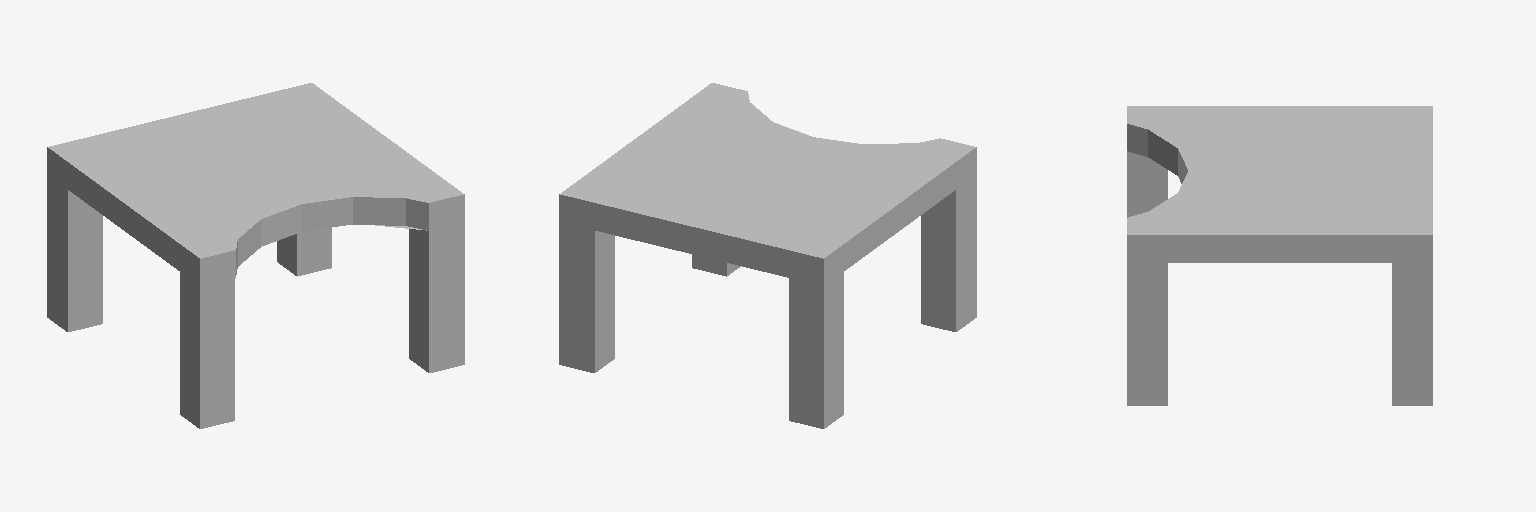
Rendered from DrawingDesk.obj.
3 renders of one model, left to right at view 1: azimuth 30°, elevation 25°; view 2: azimuth 150°, elevation 25°; view 3: azimuth 270°, elevation 25°, orthographic.
Parts seen in each view (by area): view 1: DrawingDesk; view 2: DrawingDesk; view 3: DrawingDesk.
Part boxes in pixels (x1,y1,x2,y2): DrawingDesk: (47,83,464,428); DrawingDesk: (559,83,976,428); DrawingDesk: (1127,106,1432,405).
Bounding box in the file's own units: 1.2 × 0.74 × 1.2.